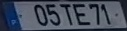0: (32, 3, 48, 26)
1: (100, 2, 112, 26)
5: (44, 3, 61, 26)
7: (88, 2, 101, 26)
E: (71, 2, 92, 26)
T: (58, 3, 73, 27)
